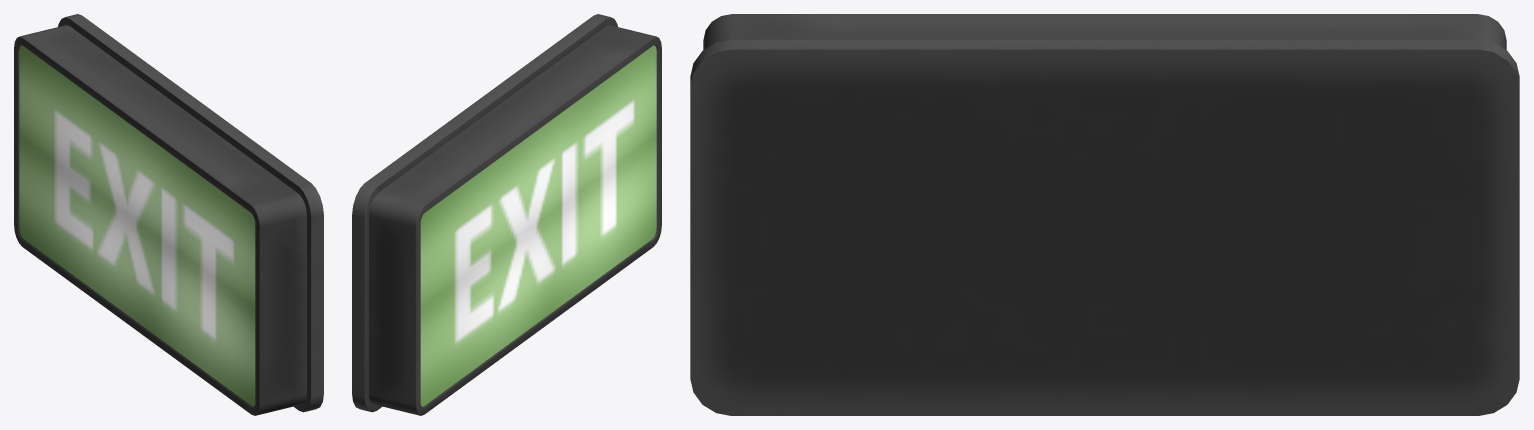
Rendered from SM_SafetySign_01.fbx.
3 views of the same model, side by side, from view 1: azimuth 30°, elevation 25°; view 2: azimuth 150°, elevation 25°; view 3: azimuth 270°, elevation 25° (orthographic). The views are drawn at different scales.
Parts seen in each view (by area): view 1: SM_SafetySign_01_LOD0; view 2: SM_SafetySign_01_LOD0; view 3: SM_SafetySign_01_LOD0.
Boxes of the visible parts, x1,y1,x2,y2 form: SM_SafetySign_01_LOD0: (14, 14, 323, 415); SM_SafetySign_01_LOD0: (352, 14, 661, 415); SM_SafetySign_01_LOD0: (690, 14, 1519, 415).
Bounding box in the file's own units: 6.05 × 44.15 × 21.53.
1 material, 1 textured.
